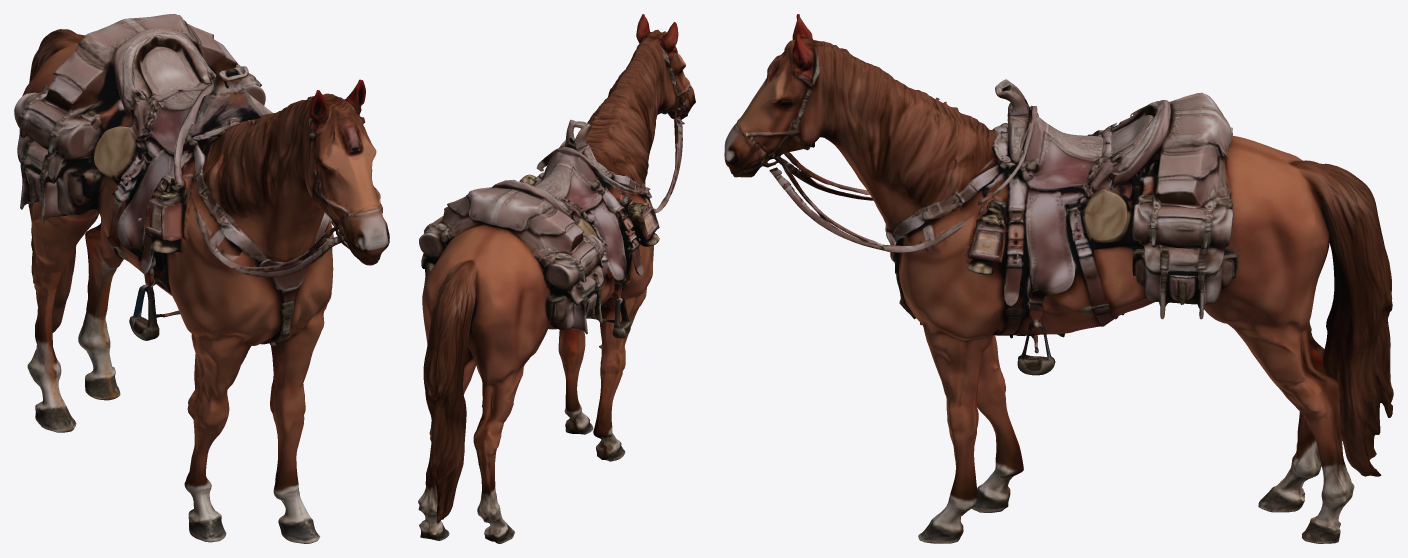
The model's file is caballo.fbx.
3 views of the same model, side by side, from view 1: azimuth 30°, elevation 25°; view 2: azimuth 150°, elevation 25°; view 3: azimuth 270°, elevation 25° (orthographic). The views are drawn at different scales.
Parts seen in each view (by area): view 1: tripo_node_464912e7; view 2: tripo_node_464912e7; view 3: tripo_node_464912e7.
Boxes of the visible parts, left/top/right/bottom form: tripo_node_464912e7: left=14, top=14, right=389, bottom=543; tripo_node_464912e7: left=418, top=14, right=695, bottom=543; tripo_node_464912e7: left=724, top=14, right=1393, bottom=543.
Bounding box in the file's own units: 0.3737 × 0.8212 × 0.9999.
1 material, 1 textured.
